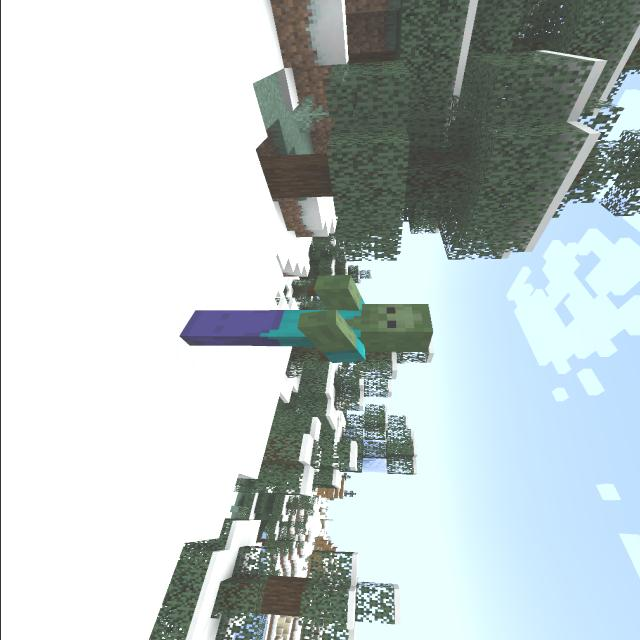Zombie: (166, 268, 442, 368)
